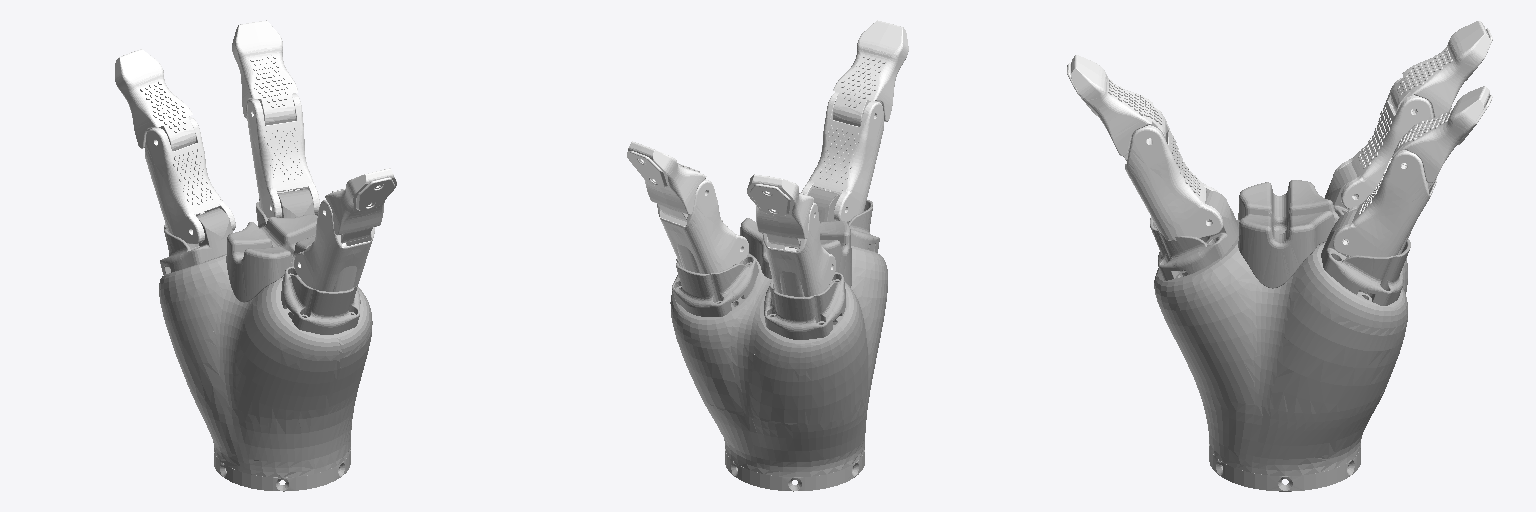
The robot description file, URDF, robot "kinova_kg3":
<?xml version="1.0" ?>
<!-- =================================================================================== -->
<!-- |    This document was autogenerated by xacro from kinova_kg3.xacro               | -->
<!-- |    EDITING THIS FILE BY HAND IS NOT RECOMMENDED                                 | -->
<!-- =================================================================================== -->
<robot name="kinova_kg3" xmlns:controller="http://playerstage.sourceforge.net/gazebo/xmlschema/#controller" xmlns:interface="http://playerstage.sourceforge.net/gazebo/xmlschema/#interface" xmlns:joint="http://playerstage.sourceforge.net/gazebo/xmlschema/#slider" xmlns:sensor="http://playerstage.sourceforge.net/gazebo/xmlschema/#sensor" xmlns:xacro="http://ros.org/wiki/xacro">
  <link name="jaco_link_hand">
    <inertial>
      <origin rpy="0 0 0" xyz="-0.000227690650068603 0.0042546911231965 0.0759513725294467"/>
      <mass value="0.121634609410213"/>
      <inertia ixx="0.000215056800843909" ixy="1.82062151904145E-08" ixz="1.11116219706148E-07" iyy="0.000187460117519514" iyz="1.201905023717E-06" izz="0.000158164269231599"/>
    </inertial>
    <visual>
      <origin rpy="0 0 0" xyz="0 0 0"/>
      <geometry>
        <mesh filename="package://kinova_kg3/meshes/jaco_link_hand.STL"/>
      </geometry>
      <material name="">
        <color rgba="0.752941176470588 0.752941176470588 0.752941176470588 1"/>
      </material>
    </visual>
    <collision>
      <origin rpy="0 0 0" xyz="0 0 0"/>
      <geometry>
        <mesh filename="package://kinova_kg3/meshes/jaco_link_hand.STL"/>
      </geometry>
    </collision>
  </link>
  <gazebo reference="jaco_link_hand">
    <turnGravityOff>false</turnGravityOff>
  </gazebo>
  <gazebo>
    <plugin filename="libgazebo_ros_p3d.so" name="p3d_jaco_link_hand_controller">
      <alwaysOn>true</alwaysOn>
      <updateRate>100.0</updateRate>
      <bodyName>jaco_link_hand</bodyName>
      <topicName>jaco_link_hand_pose_ground_truth</topicName>
      <xyzOffsets>0 0 0</xyzOffsets>
      <rpyOffsets>0 0 0</rpyOffsets>
      <gaussianNoise>0.0</gaussianNoise>
      <frameName>map</frameName>
    </plugin>
    <!-- a formal implementation of grasp hack in gazebo with fixed joint -->
    <gripper name="kionva_kg3_grasp_hack">
      <grasp_check>
        <attach_steps>20</attach_steps>
        <detach_steps>40</detach_steps>
        <min_contact_count>2</min_contact_count>
      </grasp_check>
      <gripper_link>jaco_link_finger_tip_1</gripper_link>
      <gripper_link>jaco_link_finger_tip_2</gripper_link>
      <gripper_link>jaco_link_finger_tip_3</gripper_link>
      <palm_link>jaco_link_hand</palm_link>
    </gripper>
  </gazebo>
  <joint name="jaco_joint_finger_1" type="revolute">
    <origin rpy="1.57925286601 -0.980344825914 -1.60227019088" xyz="0.00228309324473 -0.0312566848706 0.114430431187"/>
    <parent link="jaco_link_hand"/>
    <child link="jaco_link_finger_1"/>
    <limit effort="30" lower="0" upper="0.872664625997" velocity="5"/>
    <axis xyz="0 0 1"/>
  </joint>
  <link name="jaco_link_finger_1">
    <inertial>
      <origin rpy="0 0 0" xyz="0.0208280958661102 -0.00622581300157336 -1.06166677567299E-07"/>
      <mass value="0.00888493693152805"/>
      <inertia ixx="1.04331946762797E-06" ixy="1.35201064011024E-07" ixz="-1.63981636937686E-11" iyy="2.40166986344156E-06" iyz="-2.06309851527123E-12" izz="2.18918819368423E-06"/>
    </inertial>
    <visual>
      <origin rpy="0 0 0" xyz="0 0 0"/>
      <geometry>
        <mesh filename="package://kinova_kg3/meshes/jaco_link_finger_2.STL"/>
      </geometry>
      <material name="kinova_color">
        <color rgba="1 1 1 1"/>
      </material>
    </visual>
    <collision>
      <origin rpy="0 0 0" xyz="0 0 0"/>
      <geometry>
        <mesh filename="package://kinova_kg3/meshes/jaco_link_finger_2.STL"/>
      </geometry>
    </collision>
  </link>
  <link name="jaco_link_finger_tip_1">
    <inertial>
      <origin rpy="0 0 0" xyz="0.0140498893489319 -0.00605433855046034 2.02852203314789E-07"/>
      <mass value="0.0124078189139213"/>
      <inertia ixx="6.8332629760199E-07" ixy="-2.81122850352448E-07" ixz="-7.46391812800588E-12" iyy="2.46927029259255E-06" iyz="1.87459305381369E-11" izz="2.36577455894539E-06"/>
    </inertial>
    <visual>
      <origin rpy="0 0 0" xyz="0 0 0"/>
      <geometry>
        <mesh filename="package://kinova_kg3/meshes/jaco_link_finger_tip_2.STL"/>
      </geometry>
      <material name="kinova_color"/>
    </visual>
    <collision>
      <origin rpy="0 0 0" xyz="0 0 0"/>
      <geometry>
        <mesh filename="package://kinova_kg3/meshes/jaco_link_finger_tip_2.STL"/>
      </geometry>
    </collision>
  </link>
  <joint name="jaco_joint_finger_tip_1" type="revolute">
    <origin rpy="-1.11022302462516E-16 1.38777878078145E-17 -8.67361737988404E-18" xyz="0.0441021541423999 0 0"/>
    <parent link="jaco_link_finger_1"/>
    <child link="jaco_link_finger_tip_1"/>
    <limit effort="30" lower="0" upper="0.872664625997" velocity="5"/>
    <axis xyz="0 0 1"/>
  </joint>
  <!-- Finger proximal digit -->
  <gazebo reference="jaco_link_finger_1">
    <turnGravityOff>true</turnGravityOff>
    <mu1 value="500.0"/>
    <mu2 value="500.0"/>
    <kp value="1000000.0"/>
    <kd value="1.0"/>
  </gazebo>
  <gazebo reference="jaco_joint_finger_1">
    <stopKd value="1.0"/>
    <stopKp value="10000000.0"/>
    <fudgeFactor value="1.0"/>
    <provideFeedback value="true"/>
  </gazebo>
  <gazebo reference="jaco_link_finger_tip_1">
    <turnGravityOff>true</turnGravityOff>
    <selfCollide>false</selfCollide>
    <sensor name="jaco_link_finger_tip_1_contact_sensor" type="contact">
      <update_rate>100.0</update_rate>
      <contact>
        <collision>jaco_link_finger_tip_1_collision</collision>
      </contact>
      <plugin filename="libgazebo_ros_bumper.so" name="jaco_link_finger_tip_1_gazebo_ros_bumper_controller">
        <alwaysOn>true</alwaysOn>
        <frameName>jaco_link_finger_tip_1</frameName>
        <updateRate>100.0</updateRate>
        <bumperTopicName>jaco_link_finger_tip_1_bumper</bumperTopicName>
      </plugin>
    </sensor>
    <mu1 value="500.0"/>
    <mu2 value="500.0"/>
    <kp value="10000000.0"/>
    <kd value="1.0"/>
  </gazebo>
  <gazebo reference="jaco_joint_finger_tip_1">
    <stopKd value="1.0"/>
    <stopKp value="10000000.0"/>
    <fudgeFactor value="1.0"/>
    <provideFeedback value="true"/>
  </gazebo>
  <joint name="jaco_joint_finger_2" type="revolute">
    <origin rpy="1.56248404081 -0.979964587179 1.39416913027" xyz="0.021684484967 0.0270991446492 0.114669378847"/>
    <parent link="jaco_link_hand"/>
    <child link="jaco_link_finger_2"/>
    <limit effort="30" lower="0" upper="0.872664625997" velocity="5"/>
    <axis xyz="0 0 1"/>
  </joint>
  <link name="jaco_link_finger_2">
    <inertial>
      <origin rpy="0 0 0" xyz="0.0208280958661102 -0.00622581300157336 -1.06166677567299E-07"/>
      <mass value="0.00888493693152805"/>
      <inertia ixx="1.04331946762797E-06" ixy="1.35201064011024E-07" ixz="-1.63981636937686E-11" iyy="2.40166986344156E-06" iyz="-2.06309851527123E-12" izz="2.18918819368423E-06"/>
    </inertial>
    <visual>
      <origin rpy="0 0 0" xyz="0 0 0"/>
      <geometry>
        <mesh filename="package://kinova_kg3/meshes/jaco_link_finger_2.STL"/>
      </geometry>
      <material name="kinova_color">
        <color rgba="1 1 1 1"/>
      </material>
    </visual>
    <collision>
      <origin rpy="0 0 0" xyz="0 0 0"/>
      <geometry>
        <mesh filename="package://kinova_kg3/meshes/jaco_link_finger_2.STL"/>
      </geometry>
    </collision>
  </link>
  <link name="jaco_link_finger_tip_2">
    <inertial>
      <origin rpy="0 0 0" xyz="0.0140498893489319 -0.00605433855046034 2.02852203314789E-07"/>
      <mass value="0.0124078189139213"/>
      <inertia ixx="6.8332629760199E-07" ixy="-2.81122850352448E-07" ixz="-7.46391812800588E-12" iyy="2.46927029259255E-06" iyz="1.87459305381369E-11" izz="2.36577455894539E-06"/>
    </inertial>
    <visual>
      <origin rpy="0 0 0" xyz="0 0 0"/>
      <geometry>
        <mesh filename="package://kinova_kg3/meshes/jaco_link_finger_tip_2.STL"/>
      </geometry>
      <material name="kinova_color"/>
    </visual>
    <collision>
      <origin rpy="0 0 0" xyz="0 0 0"/>
      <geometry>
        <mesh filename="package://kinova_kg3/meshes/jaco_link_finger_tip_2.STL"/>
      </geometry>
    </collision>
  </link>
  <joint name="jaco_joint_finger_tip_2" type="revolute">
    <origin rpy="-1.11022302462516E-16 1.38777878078145E-17 -8.67361737988404E-18" xyz="0.0441021541423999 0 0"/>
    <parent link="jaco_link_finger_2"/>
    <child link="jaco_link_finger_tip_2"/>
    <limit effort="30" lower="0" upper="0.872664625997" velocity="5"/>
    <axis xyz="0 0 1"/>
  </joint>
  <!-- Finger proximal digit -->
  <gazebo reference="jaco_link_finger_2">
    <turnGravityOff>true</turnGravityOff>
    <mu1 value="500.0"/>
    <mu2 value="500.0"/>
    <kp value="1000000.0"/>
    <kd value="1.0"/>
  </gazebo>
  <gazebo reference="jaco_joint_finger_2">
    <stopKd value="1.0"/>
    <stopKp value="10000000.0"/>
    <fudgeFactor value="1.0"/>
    <provideFeedback value="true"/>
  </gazebo>
  <gazebo reference="jaco_link_finger_tip_2">
    <turnGravityOff>true</turnGravityOff>
    <selfCollide>false</selfCollide>
    <sensor name="jaco_link_finger_tip_2_contact_sensor" type="contact">
      <update_rate>100.0</update_rate>
      <contact>
        <collision>jaco_link_finger_tip_2_collision</collision>
      </contact>
      <plugin filename="libgazebo_ros_bumper.so" name="jaco_link_finger_tip_2_gazebo_ros_bumper_controller">
        <alwaysOn>true</alwaysOn>
        <frameName>jaco_link_finger_tip_2</frameName>
        <updateRate>100.0</updateRate>
        <bumperTopicName>jaco_link_finger_tip_2_bumper</bumperTopicName>
      </plugin>
    </sensor>
    <mu1 value="500.0"/>
    <mu2 value="500.0"/>
    <kp value="10000000.0"/>
    <kd value="1.0"/>
  </gazebo>
  <gazebo reference="jaco_joint_finger_tip_2">
    <stopKd value="1.0"/>
    <stopKp value="10000000.0"/>
    <fudgeFactor value="1.0"/>
    <provideFeedback value="true"/>
  </gazebo>
  <joint name="jaco_joint_finger_3" type="revolute">
    <origin rpy="1.56250901308 -0.978234931608 1.76352902216" xyz="-0.0228265816405 0.0270473381757 0.114459755558"/>
    <parent link="jaco_link_hand"/>
    <child link="jaco_link_finger_3"/>
    <limit effort="30" lower="0" upper="0.872664625997" velocity="5"/>
    <axis xyz="0 0 1"/>
  </joint>
  <link name="jaco_link_finger_3">
    <inertial>
      <origin rpy="0 0 0" xyz="0.0208280958661102 -0.00622581300157336 -1.06166677567299E-07"/>
      <mass value="0.00888493693152805"/>
      <inertia ixx="1.04331946762797E-06" ixy="1.35201064011024E-07" ixz="-1.63981636937686E-11" iyy="2.40166986344156E-06" iyz="-2.06309851527123E-12" izz="2.18918819368423E-06"/>
    </inertial>
    <visual>
      <origin rpy="0 0 0" xyz="0 0 0"/>
      <geometry>
        <mesh filename="package://kinova_kg3/meshes/jaco_link_finger_2.STL"/>
      </geometry>
      <material name="kinova_color">
        <color rgba="1 1 1 1"/>
      </material>
    </visual>
    <collision>
      <origin rpy="0 0 0" xyz="0 0 0"/>
      <geometry>
        <mesh filename="package://kinova_kg3/meshes/jaco_link_finger_2.STL"/>
      </geometry>
    </collision>
  </link>
  <link name="jaco_link_finger_tip_3">
    <inertial>
      <origin rpy="0 0 0" xyz="0.0140498893489319 -0.00605433855046034 2.02852203314789E-07"/>
      <mass value="0.0124078189139213"/>
      <inertia ixx="6.8332629760199E-07" ixy="-2.81122850352448E-07" ixz="-7.46391812800588E-12" iyy="2.46927029259255E-06" iyz="1.87459305381369E-11" izz="2.36577455894539E-06"/>
    </inertial>
    <visual>
      <origin rpy="0 0 0" xyz="0 0 0"/>
      <geometry>
        <mesh filename="package://kinova_kg3/meshes/jaco_link_finger_tip_2.STL"/>
      </geometry>
      <material name="kinova_color"/>
    </visual>
    <collision>
      <origin rpy="0 0 0" xyz="0 0 0"/>
      <geometry>
        <mesh filename="package://kinova_kg3/meshes/jaco_link_finger_tip_2.STL"/>
      </geometry>
    </collision>
  </link>
  <joint name="jaco_joint_finger_tip_3" type="revolute">
    <origin rpy="-1.11022302462516E-16 1.38777878078145E-17 -8.67361737988404E-18" xyz="0.0441021541423999 0 0"/>
    <parent link="jaco_link_finger_3"/>
    <child link="jaco_link_finger_tip_3"/>
    <limit effort="30" lower="0" upper="0.872664625997" velocity="5"/>
    <axis xyz="0 0 1"/>
  </joint>
  <!-- Finger proximal digit -->
  <gazebo reference="jaco_link_finger_3">
    <turnGravityOff>true</turnGravityOff>
    <mu1 value="500.0"/>
    <mu2 value="500.0"/>
    <kp value="1000000.0"/>
    <kd value="1.0"/>
  </gazebo>
  <gazebo reference="jaco_joint_finger_3">
    <stopKd value="1.0"/>
    <stopKp value="10000000.0"/>
    <fudgeFactor value="1.0"/>
    <provideFeedback value="true"/>
  </gazebo>
  <gazebo reference="jaco_link_finger_tip_3">
    <turnGravityOff>true</turnGravityOff>
    <selfCollide>false</selfCollide>
    <sensor name="jaco_link_finger_tip_3_contact_sensor" type="contact">
      <update_rate>100.0</update_rate>
      <contact>
        <collision>jaco_link_finger_tip_3_collision</collision>
      </contact>
      <plugin filename="libgazebo_ros_bumper.so" name="jaco_link_finger_tip_3_gazebo_ros_bumper_controller">
        <alwaysOn>true</alwaysOn>
        <frameName>jaco_link_finger_tip_3</frameName>
        <updateRate>100.0</updateRate>
        <bumperTopicName>jaco_link_finger_tip_3_bumper</bumperTopicName>
      </plugin>
    </sensor>
    <mu1 value="500.0"/>
    <mu2 value="500.0"/>
    <kp value="10000000.0"/>
    <kd value="1.0"/>
  </gazebo>
  <gazebo reference="jaco_joint_finger_tip_3">
    <stopKd value="1.0"/>
    <stopKp value="10000000.0"/>
    <fudgeFactor value="1.0"/>
    <provideFeedback value="true"/>
  </gazebo>
  <!--
	<xacro:include filename="kinova_kg3_finger_inner.xacro" />
	<xacro:kinova_kg3_finger_inner index="2" origin_xx="0.0213983238259719" origin_yy="0.025180093232184" origin_zz="0.0889963391205734"
      origin_r="0.00485755340747217" origin_p="-0.307065259944085" origin_y="-1.75579500695222" />
-->
</robot>

--- What the picture shows (computed from the rendered views, not written in the file) ---
The picture shows the robot from 3 angles, left to right: view 1: azimuth 30°, elevation 25°; view 2: azimuth 150°, elevation 25°; view 3: azimuth 270°, elevation 25°; orthographic projection.
Model kinova_kg3 with 7 links and 6 joints (6 revolute), rooted at jaco_link_hand, posed all joints at 0.
Visible links, largest first — view 1: jaco_link_hand, jaco_link_finger_3, jaco_link_finger_2, jaco_link_finger_tip_3, jaco_link_finger_tip_2, jaco_link_finger_1, jaco_link_finger_tip_1; view 2: jaco_link_hand, jaco_link_finger_1, jaco_link_finger_tip_1, jaco_link_finger_2, jaco_link_finger_3, jaco_link_finger_tip_3, jaco_link_finger_tip_2; view 3: jaco_link_hand, jaco_link_finger_1, jaco_link_finger_2, jaco_link_finger_tip_3, jaco_link_finger_tip_1, jaco_link_finger_3, jaco_link_finger_tip_2.
Boxes of the visible links, <box> form: jaco_link_hand: <box>159,189,372,491</box>; jaco_link_finger_3: <box>145,116,235,243</box>; jaco_link_finger_2: <box>247,93,319,218</box>; jaco_link_finger_tip_3: <box>115,49,195,150</box>; jaco_link_finger_tip_2: <box>232,20,297,125</box>; jaco_link_finger_1: <box>294,200,374,291</box>; jaco_link_finger_tip_1: <box>325,168,396,243</box>; jaco_link_hand: <box>670,188,887,491</box>; jaco_link_finger_1: <box>801,92,883,221</box>; jaco_link_finger_tip_1: <box>833,20,908,126</box>; jaco_link_finger_2: <box>657,179,748,273</box>; jaco_link_finger_3: <box>762,202,835,296</box>; jaco_link_finger_tip_3: <box>747,174,813,247</box>; jaco_link_finger_tip_2: <box>627,141,706,222</box>; jaco_link_hand: <box>1150,166,1410,491</box>; jaco_link_finger_1: <box>1125,108,1222,240</box>; jaco_link_finger_2: <box>1333,150,1436,256</box>; jaco_link_finger_tip_3: <box>1391,21,1492,117</box>; jaco_link_finger_tip_1: <box>1067,55,1165,160</box>; jaco_link_finger_3: <box>1333,78,1432,208</box>; jaco_link_finger_tip_2: <box>1391,86,1492,187</box>.
Size in the robot's own frame: 0.0927 by 0.1762 by 0.1824 metres.
7 mesh visuals loaded from 3 distinct referenced files (3 binary STL).